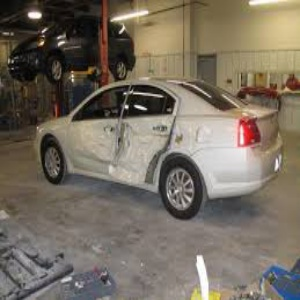door: (82, 126, 162, 182)
